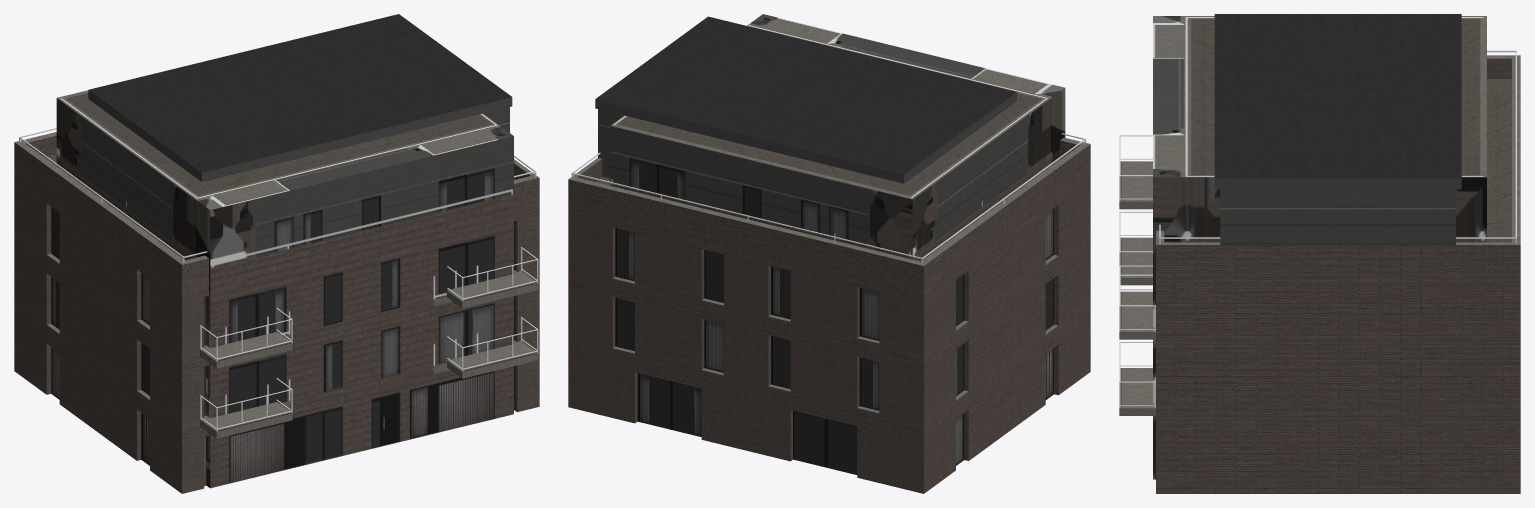
The model's file is lg_contemporary_apts.fbx.
The picture shows the model from 3 angles, left to right: view 1: azimuth 30°, elevation 25°; view 2: azimuth 150°, elevation 25°; view 3: azimuth 270°, elevation 25°; orthographic projection. The views are drawn at different scales.
Parts seen in each view (by area): view 1: lg_contemporary_apts_LOD0; view 2: lg_contemporary_apts_LOD0; view 3: lg_contemporary_apts_LOD0.
Part boxes in pixels (box(x1,y1,x2,y2)): lg_contemporary_apts_LOD0: box(14, 14, 539, 493); lg_contemporary_apts_LOD0: box(568, 14, 1090, 493); lg_contemporary_apts_LOD0: box(1119, 14, 1520, 493).
Size of what is drawn, in the model's own units: 16 by 12.4 by 14.3.
Materials: 2 (2 with a texture image).
